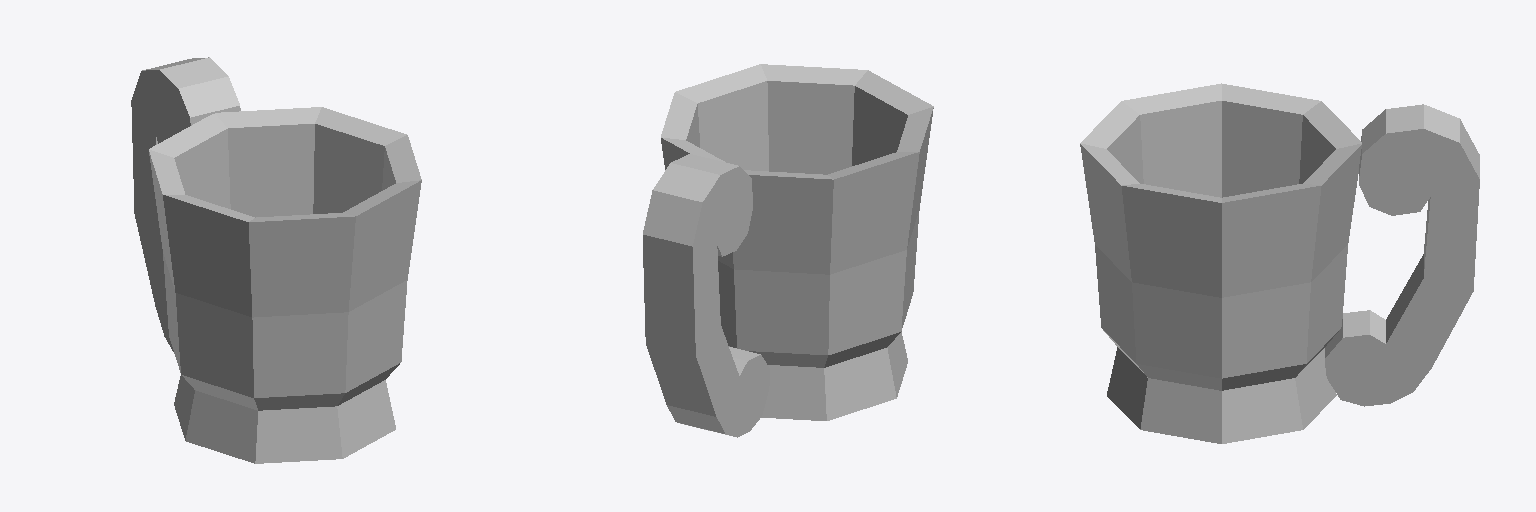
Rendered from pa_mug_02.obj.
3 views of the same model, side by side, from view 1: azimuth 30°, elevation 25°; view 2: azimuth 150°, elevation 25°; view 3: azimuth 270°, elevation 25° (orthographic).
Parts seen in each view (by area): view 1: PA_Mug_02; view 2: PA_Mug_02; view 3: PA_Mug_02.
Part boxes in pixels (x1,y1,x2,y2): PA_Mug_02: (131, 57, 421, 463); PA_Mug_02: (643, 64, 933, 437); PA_Mug_02: (1080, 83, 1479, 443).
Bounding box in the file's own units: 0.4863 × 0.5295 × 0.6873.